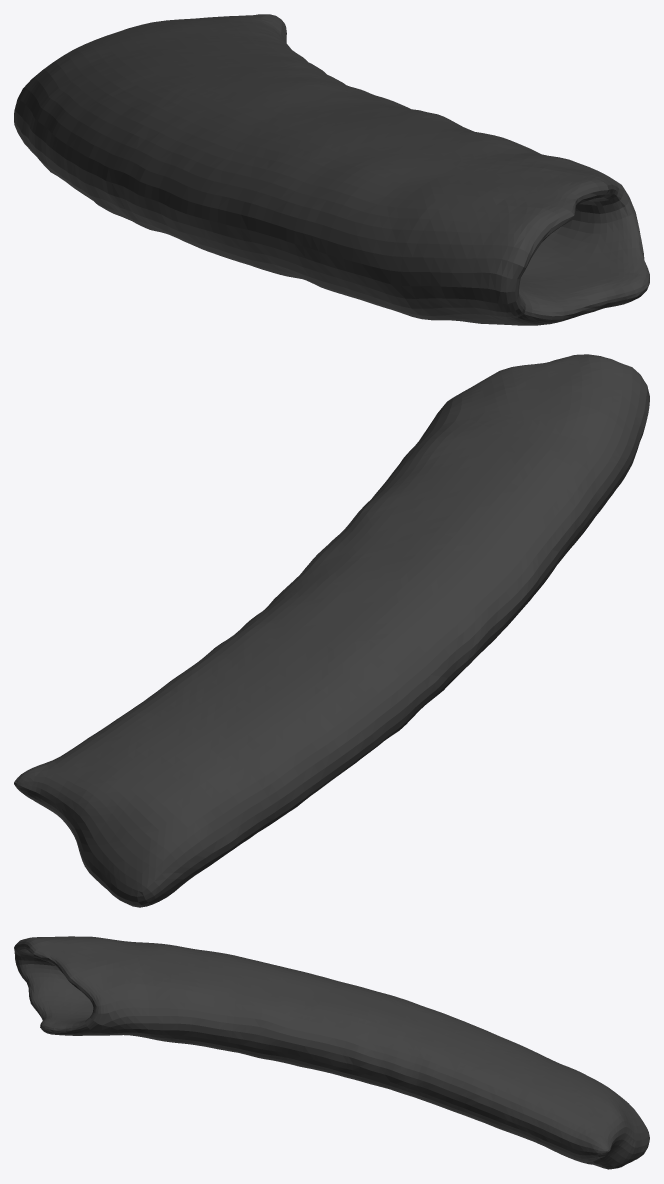
The model's file is tooth_rabbit_211_low.glb.
3 views of the same model, one above another, from view 1: azimuth 30°, elevation 25°; view 2: azimuth 150°, elevation 25°; view 3: azimuth 270°, elevation 25° (orthographic). The views are drawn at different scales.
Parts seen in each view (by area): view 1: tooth_rabbit_211_low; view 2: tooth_rabbit_211_low; view 3: tooth_rabbit_211_low.
Boxes of the visible parts, x1,y1,x2,y2 form: tooth_rabbit_211_low: [14, 14, 649, 325]; tooth_rabbit_211_low: [14, 354, 649, 907]; tooth_rabbit_211_low: [14, 936, 649, 1169].
Size of the model in its own units: 0.2762 by 0.2425 by 0.7171.
Materials: 1 (1 with a texture image).
